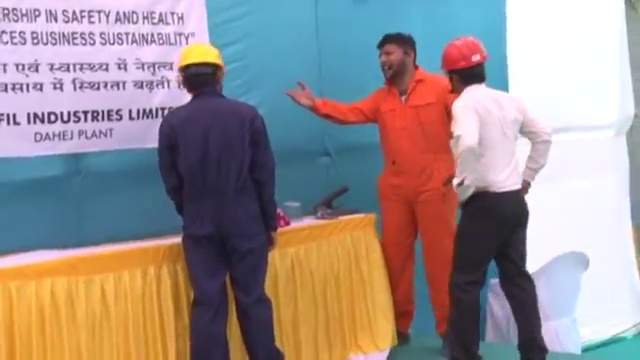helmet: (439, 34, 489, 70), (177, 42, 226, 75)
helmet_off: (379, 33, 416, 88)
helmet_on: (439, 34, 490, 94), (175, 42, 226, 98)
person: (285, 33, 458, 338), (155, 41, 288, 360), (439, 34, 551, 360)
